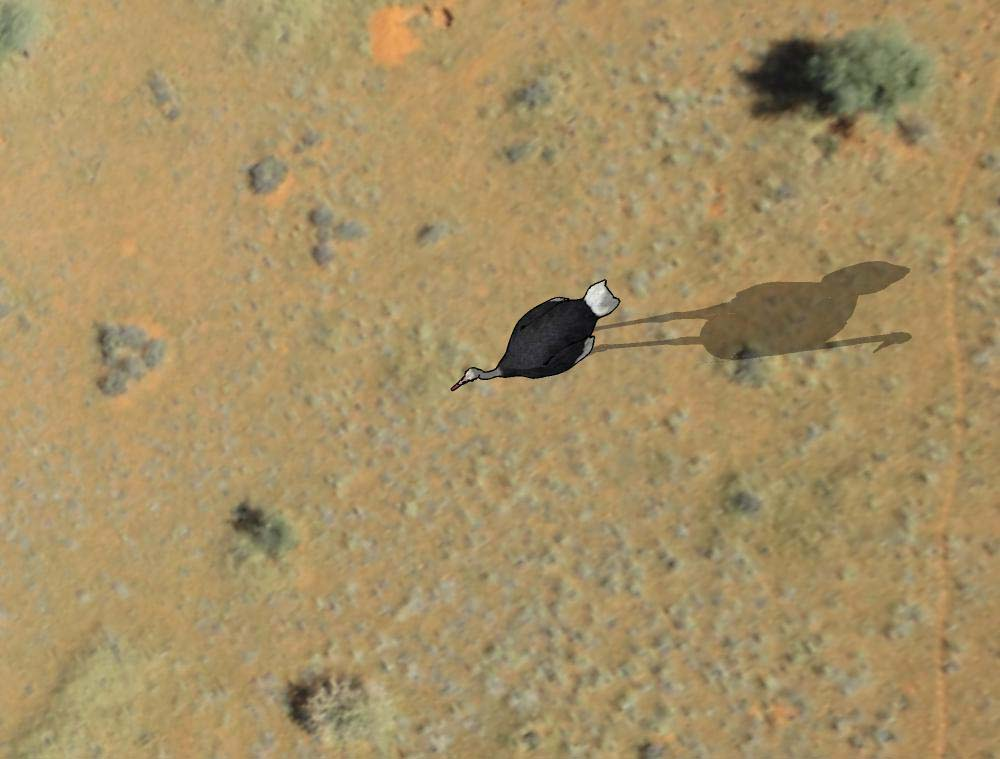ostrich: (446, 274, 621, 406)
